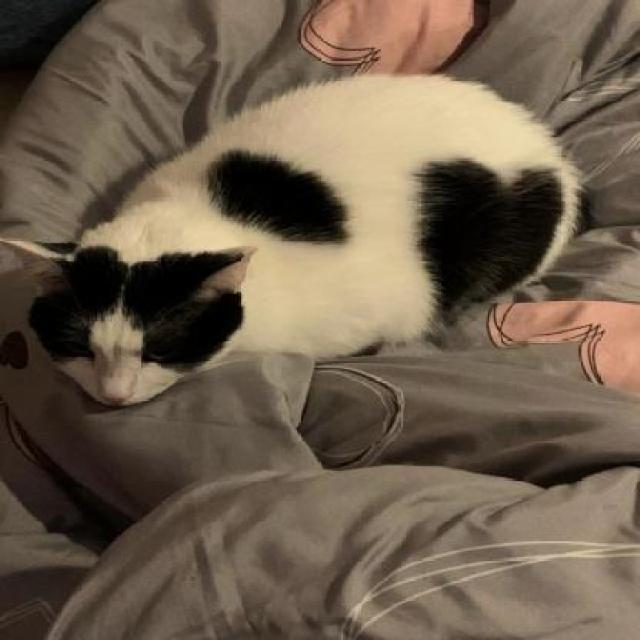cat: (0, 66, 594, 417)
